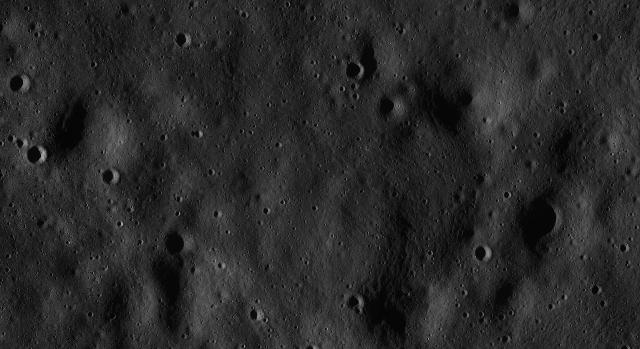crater: (500, 190, 578, 266), (501, 0, 534, 30), (160, 228, 188, 256), (360, 40, 378, 80), (342, 289, 366, 317), (9, 70, 33, 96), (471, 240, 493, 268), (25, 144, 49, 168), (376, 92, 396, 118), (345, 58, 363, 86), (100, 167, 122, 189), (172, 30, 194, 51), (7, 132, 29, 150), (472, 169, 490, 189), (390, 18, 410, 36), (245, 306, 262, 326), (521, 157, 539, 173), (497, 330, 512, 349), (231, 7, 251, 21), (460, 90, 474, 108), (592, 31, 606, 45), (210, 208, 224, 221), (206, 165, 218, 179), (190, 129, 206, 139), (619, 245, 633, 256), (592, 283, 604, 295), (260, 206, 272, 218), (158, 132, 168, 146), (460, 309, 474, 319)
